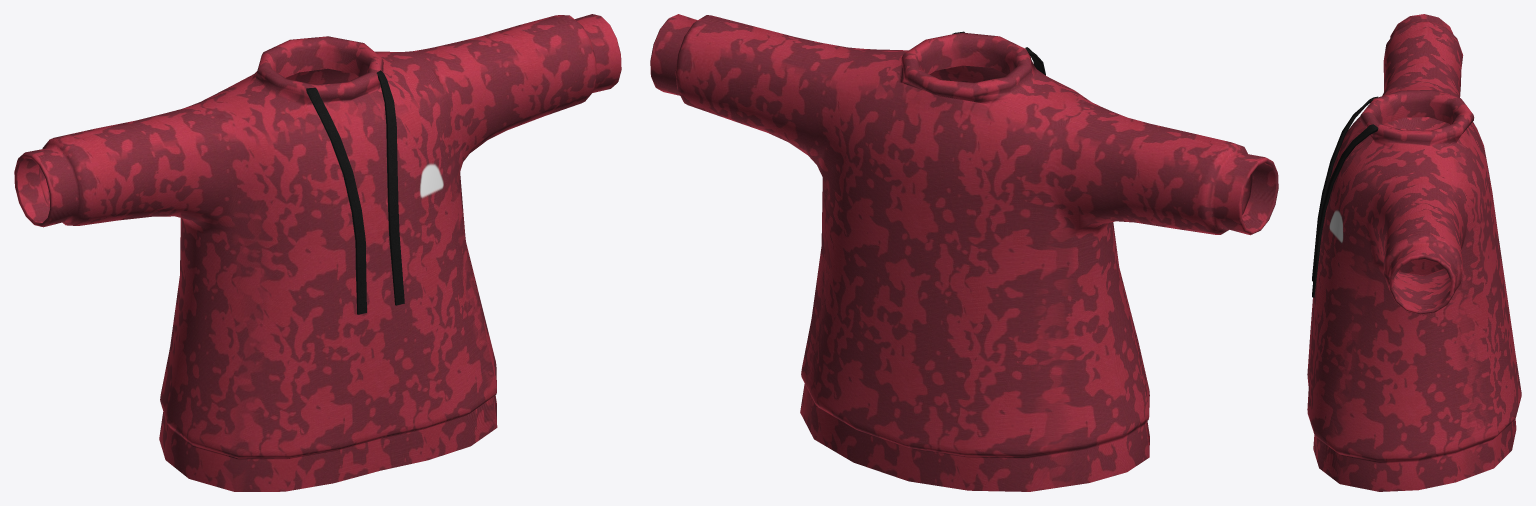
The model's file is upper cloth 06.glb.
The picture shows the model from 3 angles, left to right: view 1: azimuth 30°, elevation 25°; view 2: azimuth 150°, elevation 25°; view 3: azimuth 270°, elevation 25°; orthographic projection. The views are drawn at different scales.
Visible parts, largest first — view 1: upper_cloth_06; view 2: upper_cloth_06; view 3: upper_cloth_06.
Part boxes in pixels (box(x1,y1,x2,y2)): upper_cloth_06: box(14, 14, 621, 491); upper_cloth_06: box(650, 14, 1278, 491); upper_cloth_06: box(1307, 14, 1521, 491).
Bounding box in the file's own units: 0.0116 × 0.00711 × 0.00433.
1 material, 1 textured.
